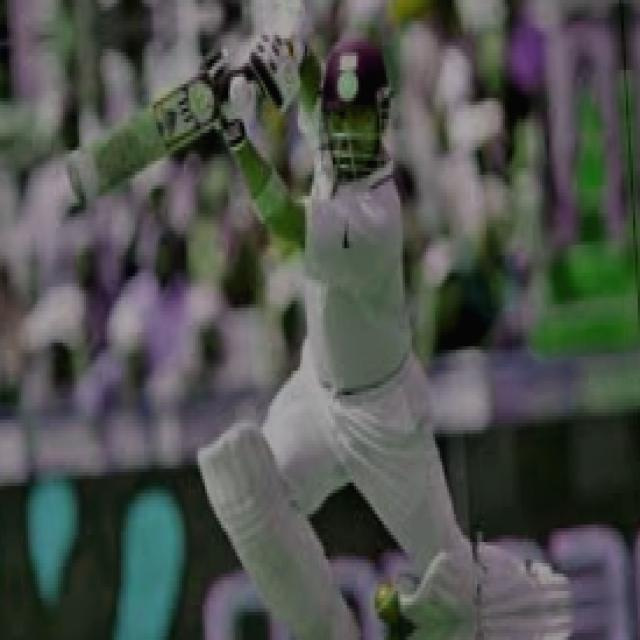bat: (55, 81, 230, 219)
toe: (63, 153, 91, 204)
